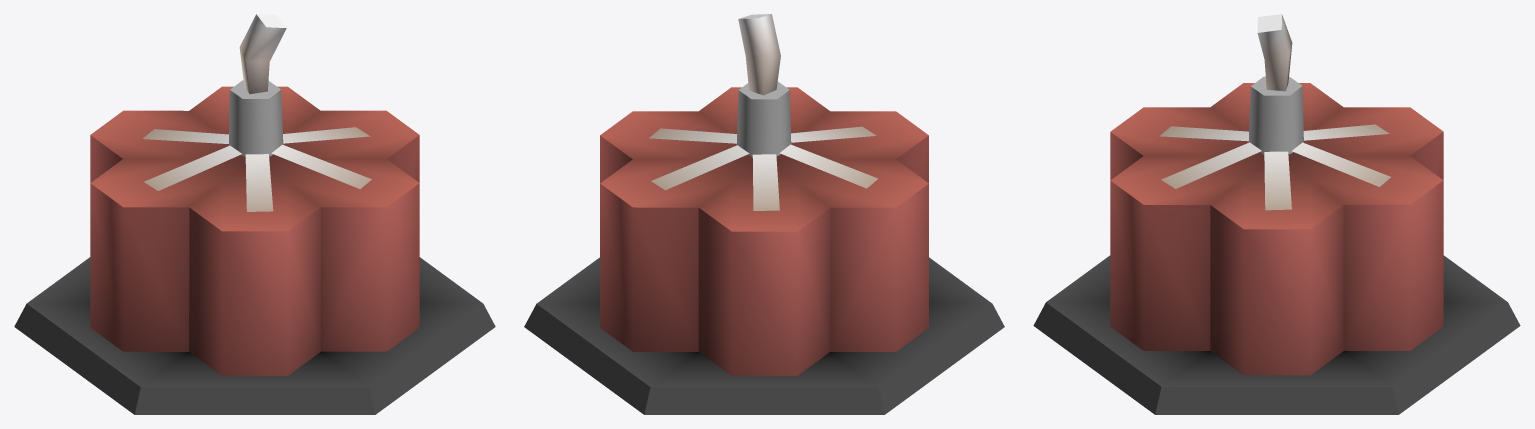
File: #Finished.fbx
3 views of the same model, side by side, from view 1: azimuth 30°, elevation 25°; view 2: azimuth 150°, elevation 25°; view 3: azimuth 270°, elevation 25° (orthographic).
Parts seen in each view (by area): view 1: TripleDynamite_Folktails; view 2: TripleDynamite_Folktails; view 3: TripleDynamite_Folktails.
Boxes of the visible parts, box(x1,y1,x2,y2) form: TripleDynamite_Folktails: box(14, 14, 495, 414); TripleDynamite_Folktails: box(524, 14, 1004, 414); TripleDynamite_Folktails: box(1033, 14, 1520, 414).
Bounding box in the file's own units: 67.31 × 55.22 × 77.73.
